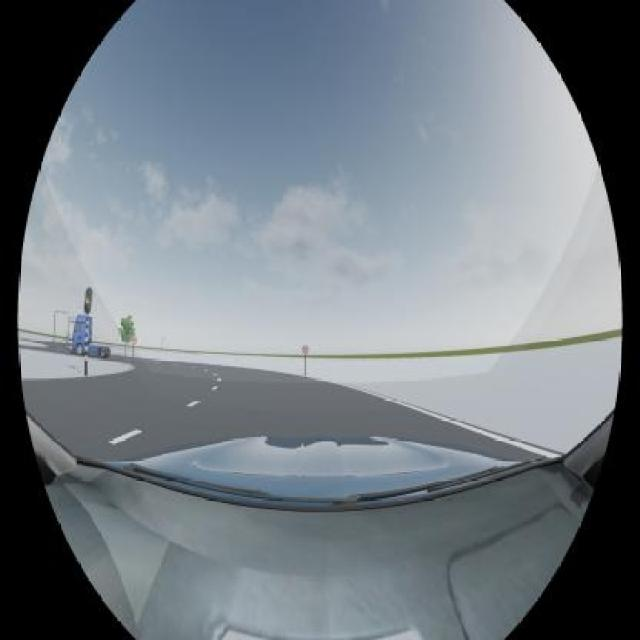forb_speed_over_80: (303, 345, 309, 353)
